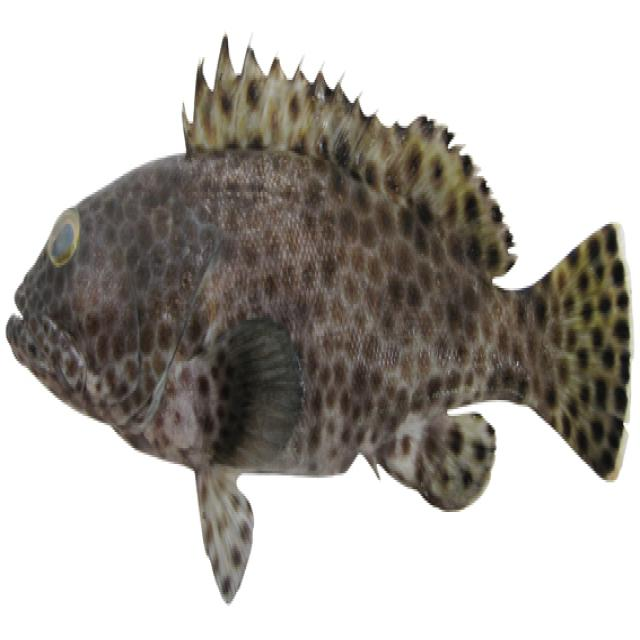ikan: (5, 34, 633, 604)
